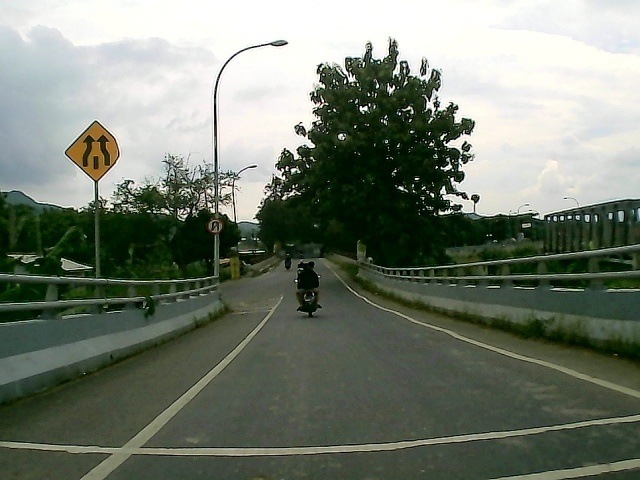Akhir bangunan pemisah satu arah: (61, 119, 125, 183)
Dilarang berbalik arah: (206, 218, 223, 236)
